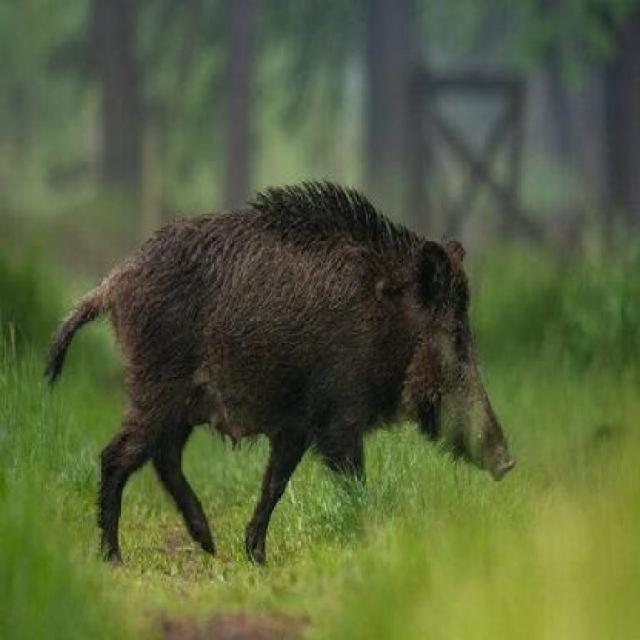Wild Boar: (37, 170, 512, 570)
